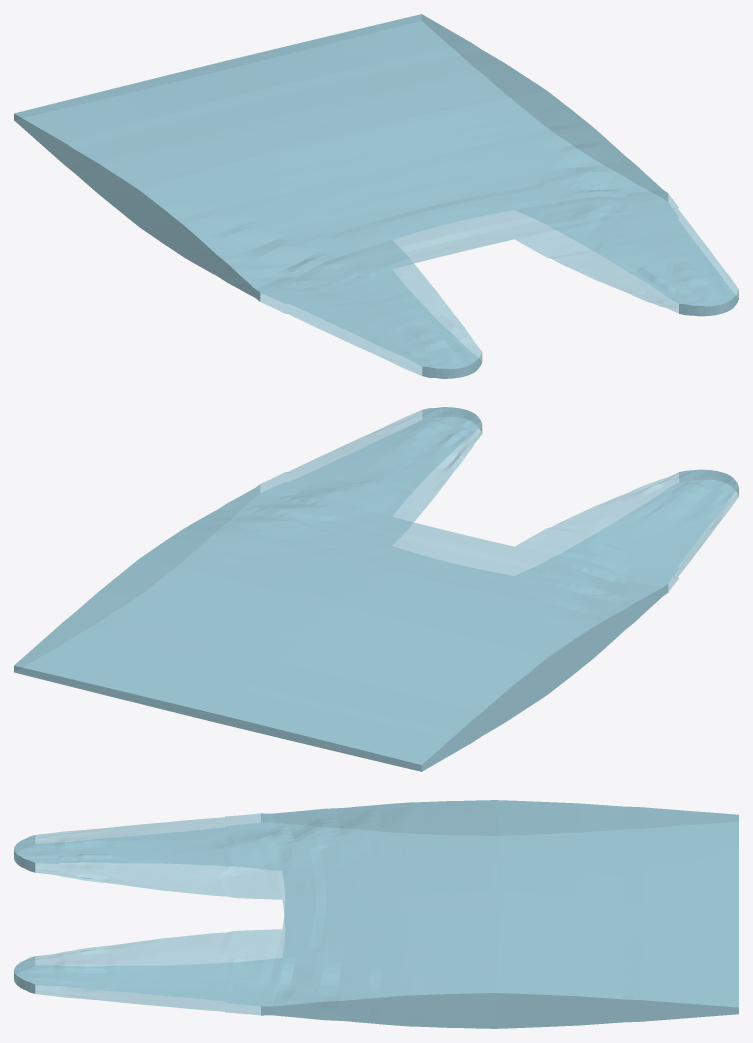
The model's file is supermarket_plastic_bag_open_carry_v5.glb.
3 renders of one model, top to bottom at view 1: azimuth 30°, elevation 25°; view 2: azimuth 150°, elevation 25°; view 3: azimuth 270°, elevation 25°, orthographic. The views are drawn at different scales.
Visible parts, largest first — view 1: world; view 2: world; view 3: world.
Part boxes in pixels (bbox=[...]): world: bbox=[14, 14, 738, 378]; world: bbox=[14, 407, 738, 771]; world: bbox=[14, 800, 738, 1028].
Size of the model in its own units: 0.34 by 0.0378 by 0.54.
